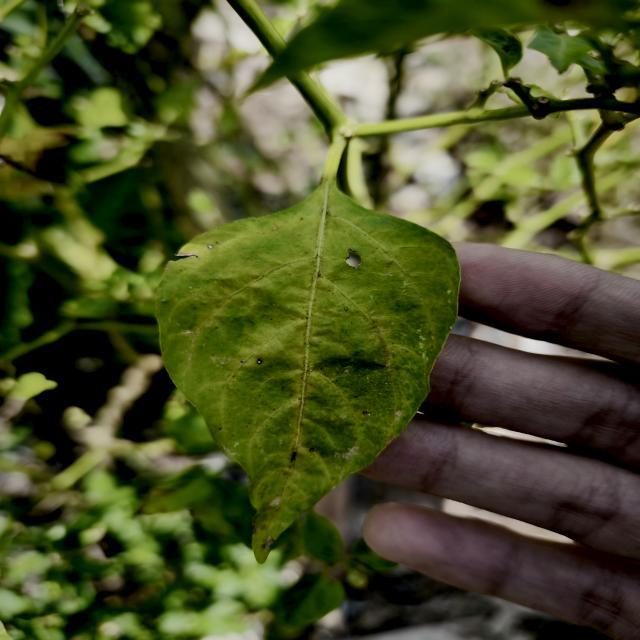Virus Kuning: (154, 176, 464, 566)
